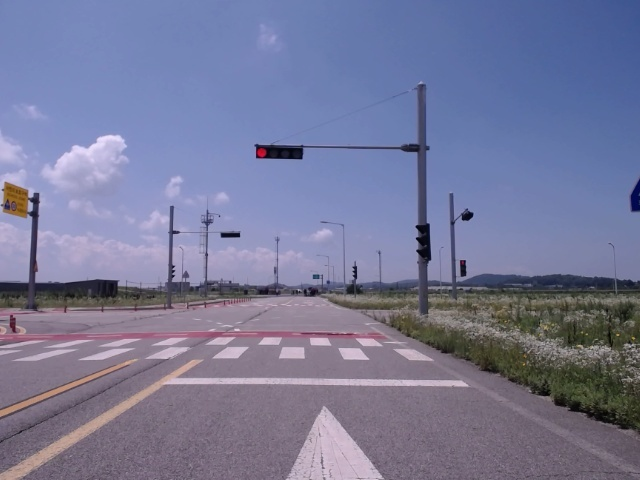red_4: (256, 146, 303, 160)
